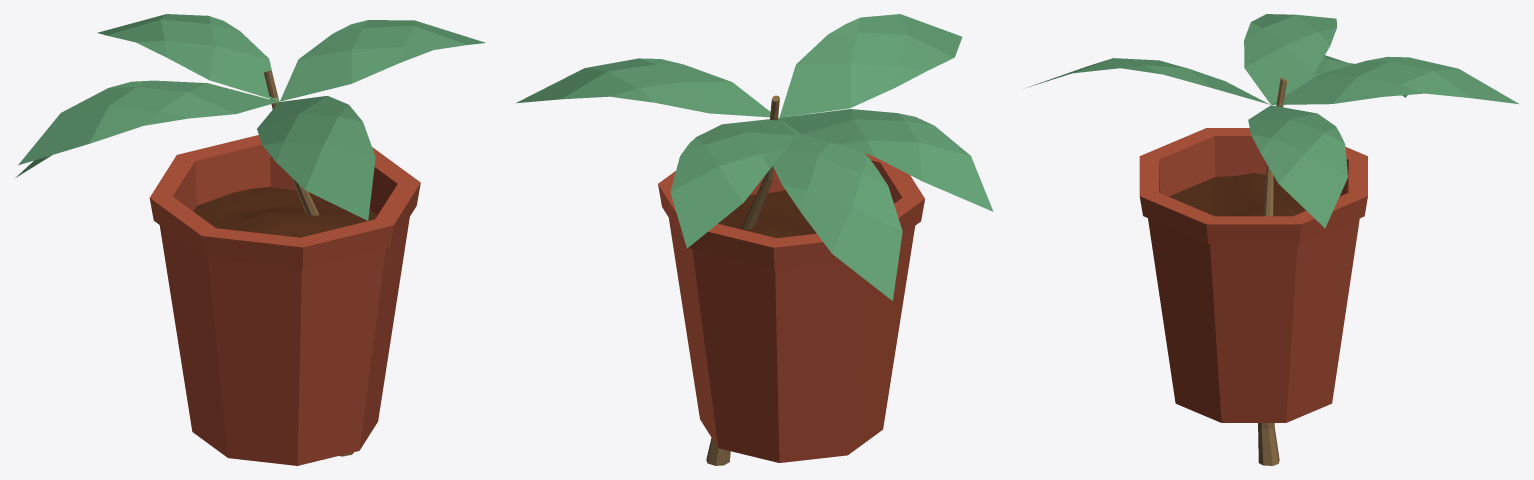
The model's file is plant_pot_growing.glb.
3 views of the same model, side by side, from view 1: azimuth 30°, elevation 25°; view 2: azimuth 150°, elevation 25°; view 3: azimuth 270°, elevation 25° (orthographic). The views are drawn at different scales.
Parts seen in each view (by area): view 1: pot_0, leaf.014_7, tige.001_2; view 2: leaf.014_7, pot_0, tige.001_2; view 3: pot_0, leaf.014_7, tige.001_2.
Boxes of the visible parts, x1,y1,x2,y2 form: pot_0: [149, 135, 420, 465]; leaf.014_7: [15, 14, 485, 220]; tige.001_2: [264, 70, 353, 456]; leaf.014_7: [516, 14, 993, 300]; pot_0: [658, 153, 924, 462]; tige.001_2: [706, 95, 779, 465]; pot_0: [1139, 128, 1367, 422]; leaf.014_7: [1027, 14, 1519, 228]; tige.001_2: [1258, 77, 1287, 465].
Bounding box in the file's own units: 3.99 × 3.25 × 3.99.
